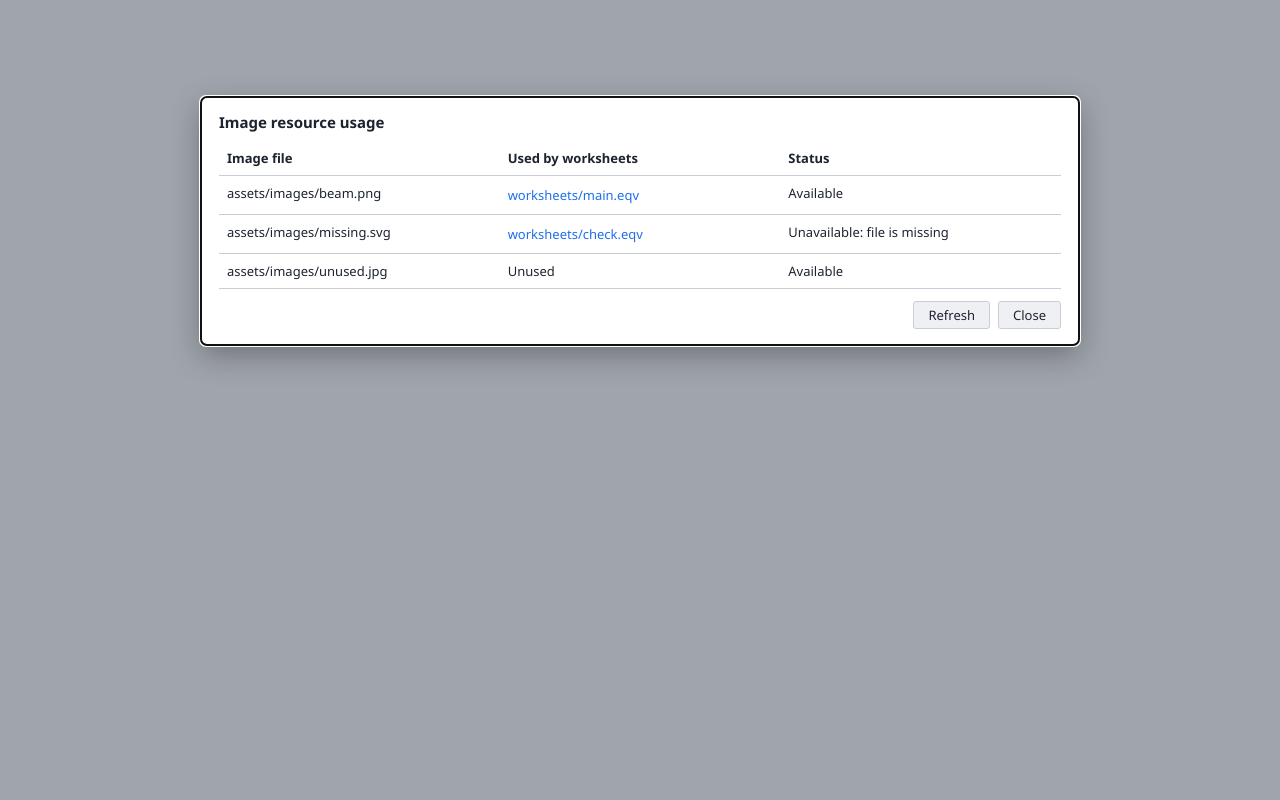
Test: refreshes on demand and clears stale rows when refreshing fails
Expected: the text "assets/images/beam.png" is shown, [219,176,500,214]
Click the button "Refresh": (952, 315) [913,301,990,329]
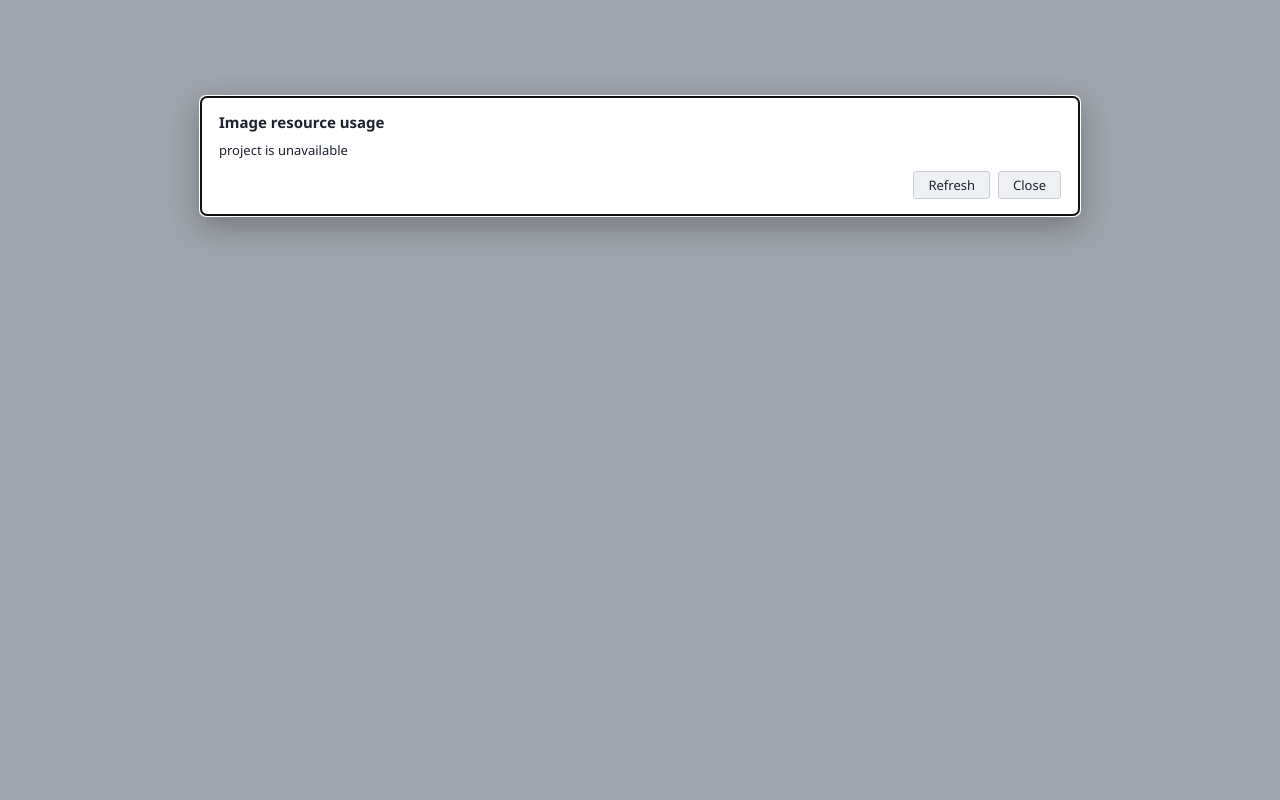
Expected: the message reads "project is unavailable", [219,141,348,159]
Expected: the text "assets/images/beam.png" is gone
